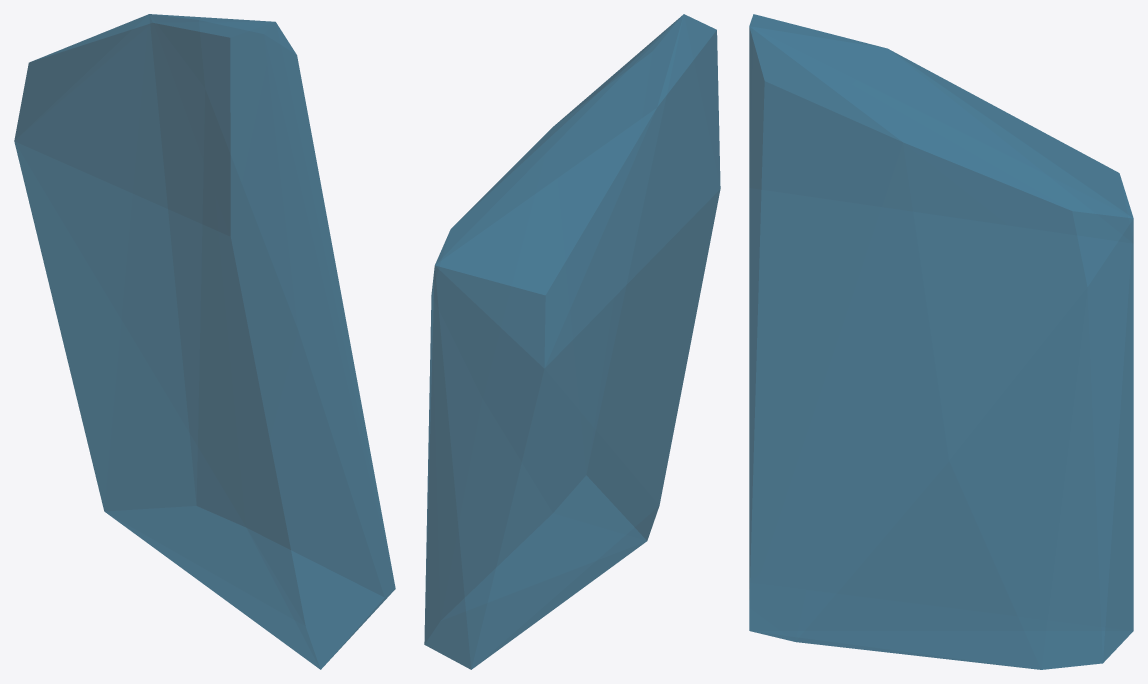
3 views of the same model, side by side, from view 1: azimuth 30°, elevation 25°; view 2: azimuth 150°, elevation 25°; view 3: azimuth 270°, elevation 25° (orthographic). The views are drawn at different scales.
Parts seen in each view (by area): view 1: Shape_IndexedFaceSet.066_Shape_IndexedFaceSet.7678; view 2: Shape_IndexedFaceSet.066_Shape_IndexedFaceSet.7678; view 3: Shape_IndexedFaceSet.066_Shape_IndexedFaceSet.7678.
Part boxes in pixels (x1,y1,x2,y2): Shape_IndexedFaceSet.066_Shape_IndexedFaceSet.7678: (14, 14, 395, 669); Shape_IndexedFaceSet.066_Shape_IndexedFaceSet.7678: (424, 14, 720, 669); Shape_IndexedFaceSet.066_Shape_IndexedFaceSet.7678: (749, 14, 1133, 669).
Bounding box in the file's own units: 0.029 × 0.1016 × 0.0605.
